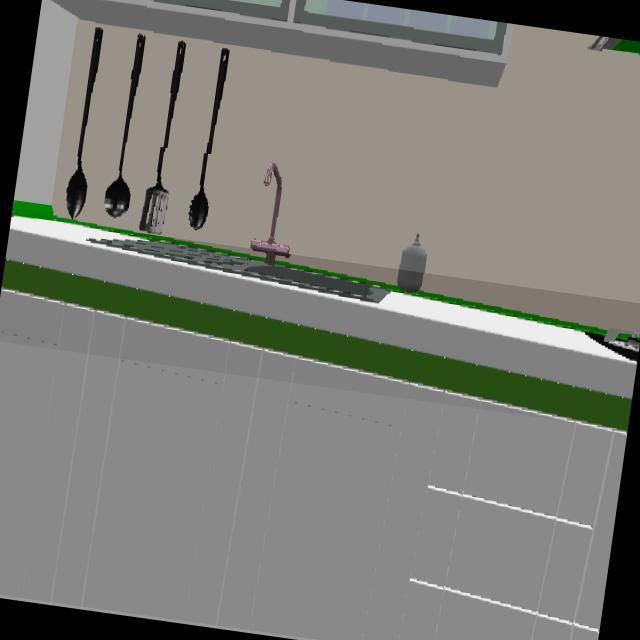cabinet: (0, 291, 625, 640)
countertop: (1, 219, 637, 430)
sink: (112, 164, 385, 303)
